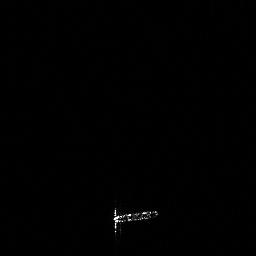ship: (107, 202, 161, 237)
